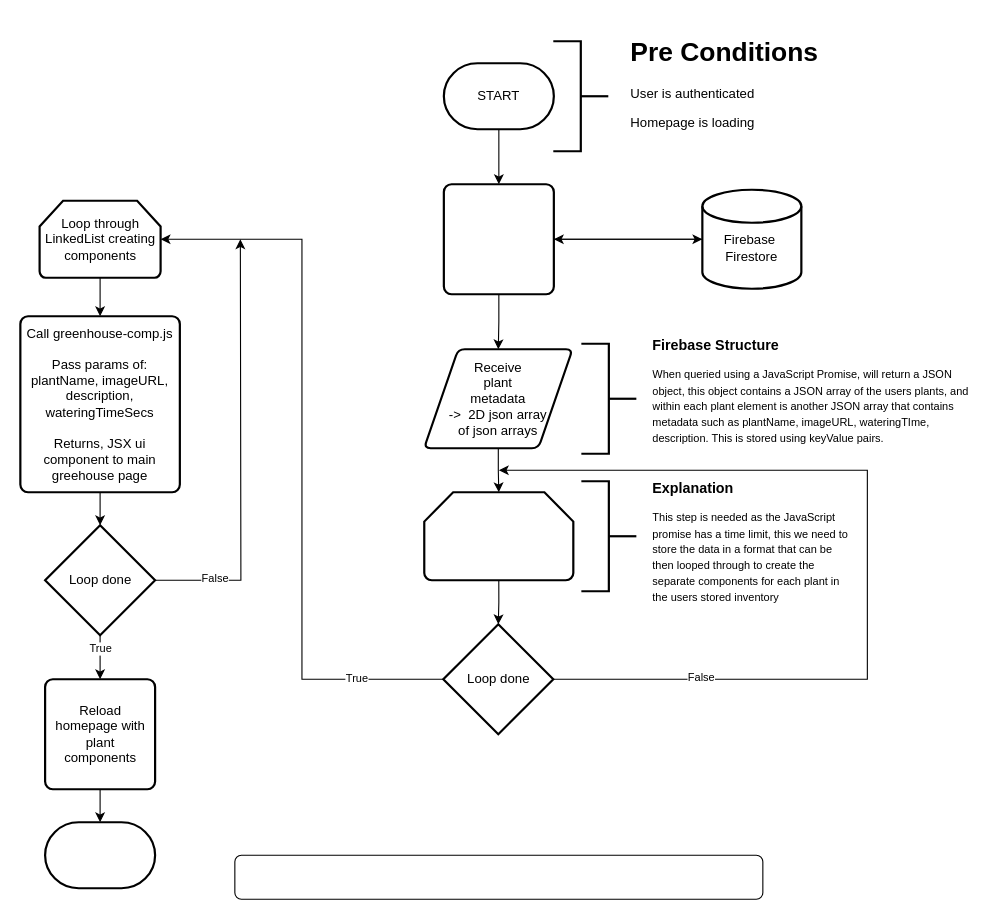
This 1007x919 diagram has some shape labels left out. The centre of each missing label's shape, as x and y in pixels:
END: point (99, 855)
IB CS - Internal Assessment - User Data To Component - Finn Lestrange: point (498, 876)
Loop; plant metadata json array, insert elements into LinkedList: point (498, 536)
Query firebase firestore w/ UID, get json array of plants: point (498, 239)
